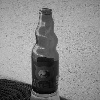beer: (25, 5, 72, 100)
